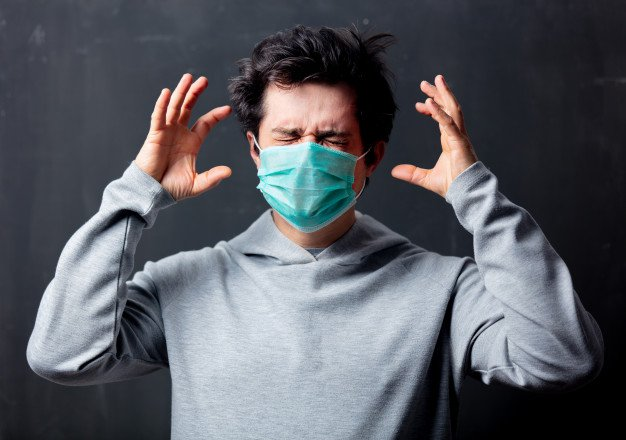mask: (220, 17, 411, 236)
